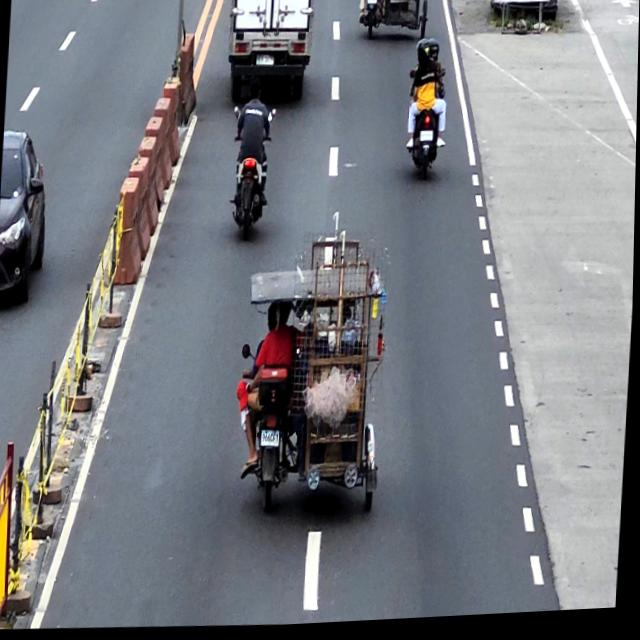Car: (0, 126, 53, 313)
License-Plate: (262, 431, 281, 450), (256, 54, 275, 69), (420, 134, 433, 147), (367, 0, 377, 9)
Motorcycle: (227, 103, 277, 242), (403, 69, 446, 184)
Tricycle: (236, 335, 387, 525), (359, 0, 430, 50)
Truck: (225, 0, 315, 103)
